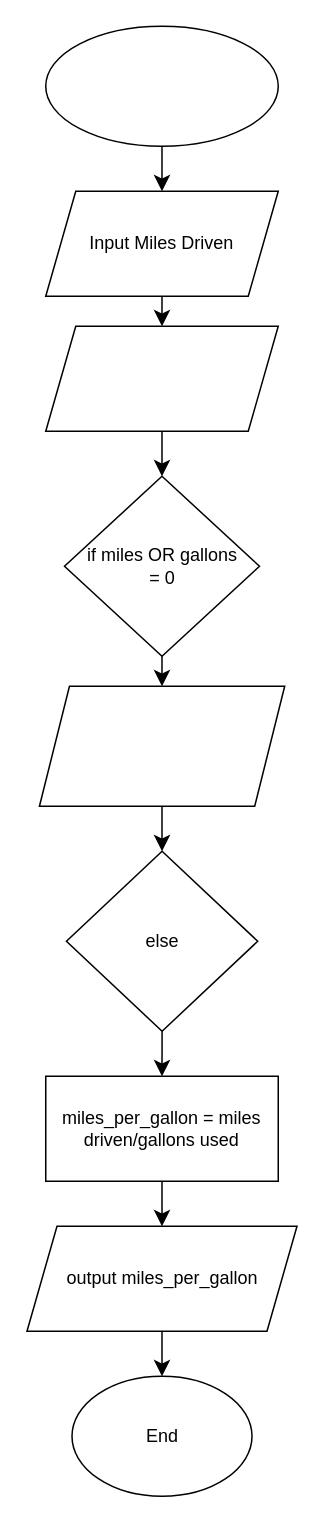
Image size: 323x1523. Some labels were removed from this diagram. Here are the shapes that lost their labels. From the top down, the centre of each, then its label:
point 161,85: Start
point 161,378: Input Gallons Used
point 161,745: Output "You must enter a value greater than 0"
